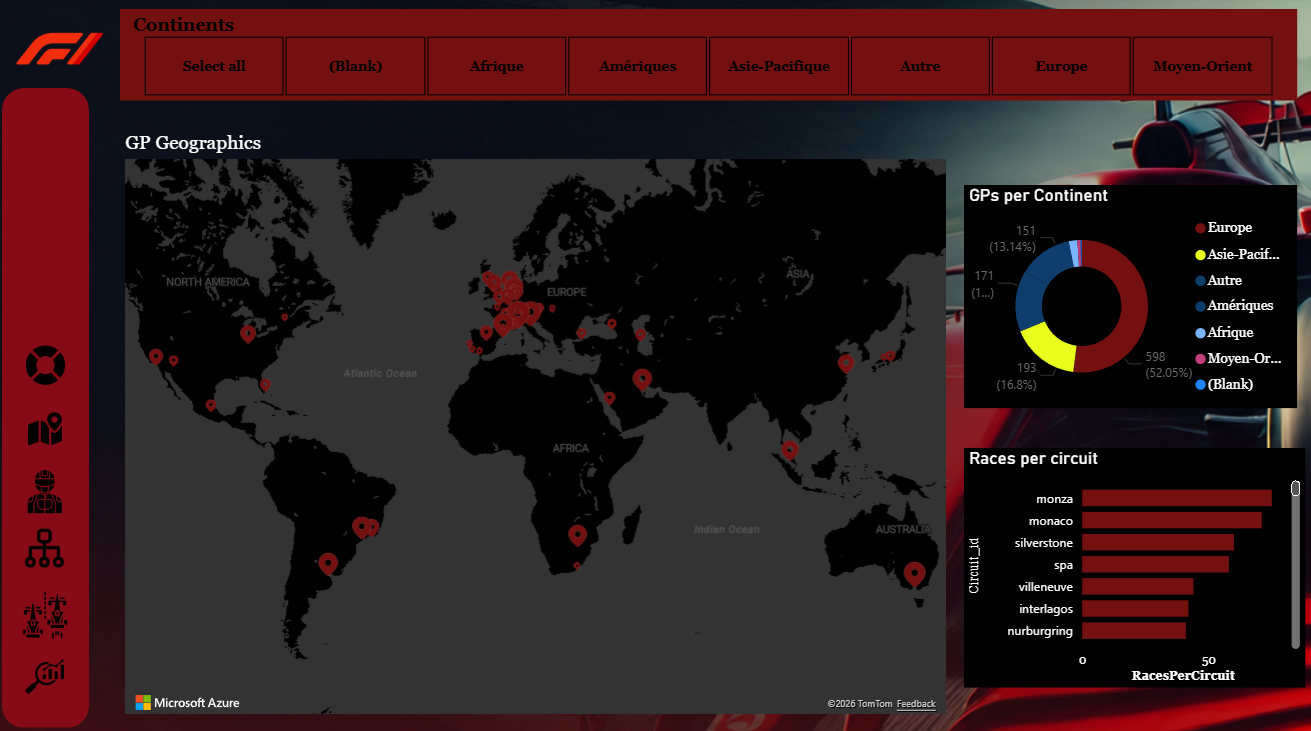

Layout of this report page (visuals, bound fields, positions):
{"tool":"powerbi","page":{"name":"World Map ","canvas":[1280,720],"ordinal":1},"visuals":[{"type":"donutChart","title":"GPs per Continent","fields":{"Y":["races.Total GPs"],"Category":["circuits.Continent"]},"box":[938.6,182.9,323.9,216.9],"z":0},{"type":"shape","box":[2.9,88.5,84.6,622.5],"z":1000},{"type":"group","id":"g1","title":"Group 2","box":[11.1,334.6,68.3,350.2],"z":2000},{"type":"image","box":[0,7.8,117.7,84.6],"z":3000},{"type":"slicer","fields":{"Values":["circuits.Continent"]},"box":[117.7,11.7,1144.8,88.5],"z":4000},{"type":"barChart","title":"Races per circuit","fields":{"Category":["circuits.Circuit_id"],"Y":["circuits.RacesPerCircuit"]},"box":[938.6,438.7,331.7,233.4],"z":5000},{"type":"azureMap","title":"GP Geographics","fields":{"Y":["circuits.Latitude"],"X":["circuits.Longitude"],"Size":["results.Total Wins"]},"box":[117.7,131.3,808.3,570.9],"z":6000},{"type":"image","box":[28.2,393,32.5,54.5],"z":8000,"group":"g1"},{"type":"image","box":[16.8,460.1,55.3,41.8],"z":9000,"group":"g1"},{"type":"image","box":[22.5,578.7,44.8,45.7],"z":10000,"group":"g1"},{"type":"image","box":[12.7,516.5,62.7,38.9],"z":11000,"group":"g1"},{"type":"image","box":[24.9,637.1,39.9,47.7],"z":12000,"group":"g1"},{"type":"image","box":[11.1,334.6,68.3,46.7],"z":14000,"group":"g1"}]}

Visuals, with their boxes on the page's 1280x720 design canvas (x1, y1, x2, y2). These are canvas units, not pixel positions in the 1311x731 screenshot, which may show the page scaled, cropped or inside an application window:
"GPs per Continent" donutChart: 939, 183, 1262, 400
shape: 3, 88, 88, 711
"Group 2" group: 11, 335, 79, 685
image: 0, 8, 118, 92
slicer - circuits.Continent: 118, 12, 1262, 100
"Races per circuit" barChart: 939, 439, 1270, 672
"GP Geographics" azureMap: 118, 131, 926, 702
image: 28, 393, 61, 448
image: 17, 460, 72, 502
image: 22, 579, 67, 624
image: 13, 516, 75, 555
image: 25, 637, 65, 685
image: 11, 335, 79, 381
